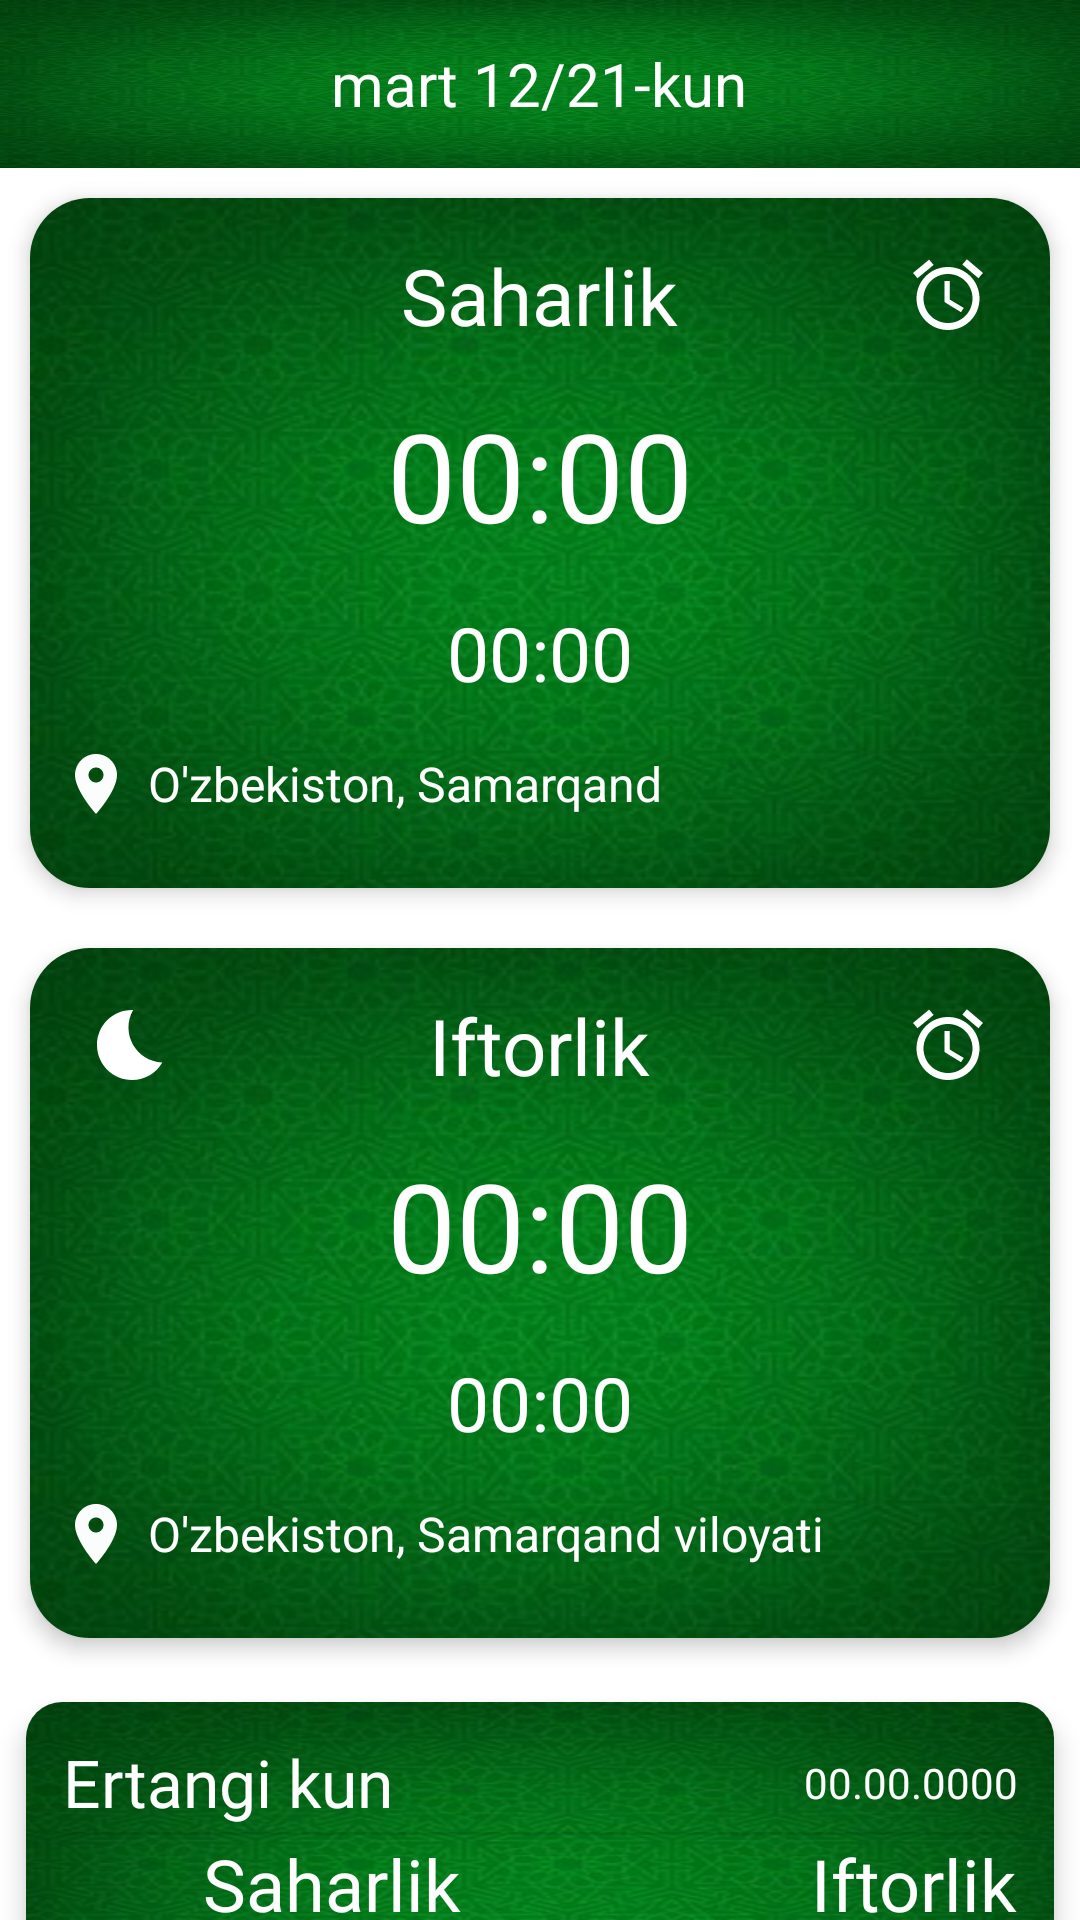

Where to tap for icons on this 1080x1920 app screen, as [x,y]:
access alarms: [948,294], [948,1044]
bedtime: [129,1045]
location on: [96,784], [96,1534]
